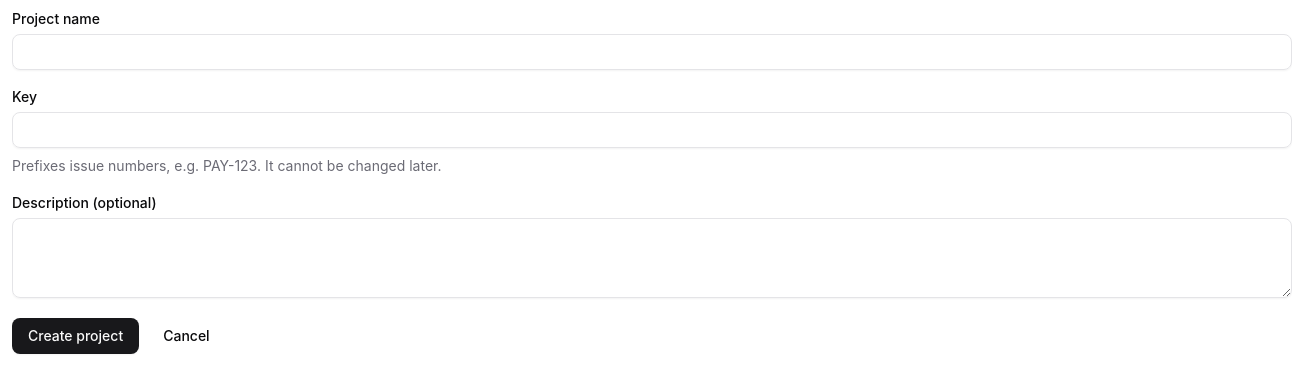
it: CreateProjectForm › shows a taken key under the key field
Type "Payments" into the field labelled "Project name" at [652, 52], box left=12, top=34, right=1292, bottom=70
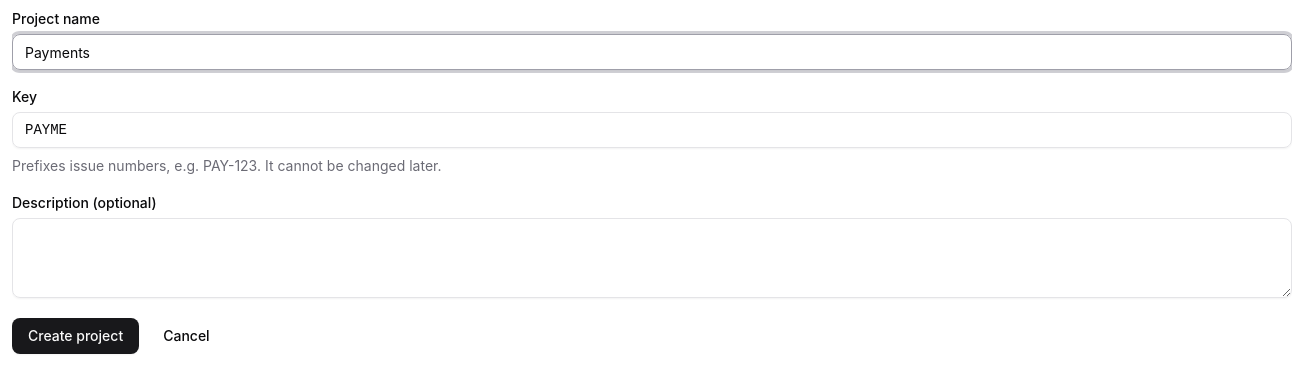
Click the button "Create project" at [76, 336], box left=12, top=318, right=139, bottom=354
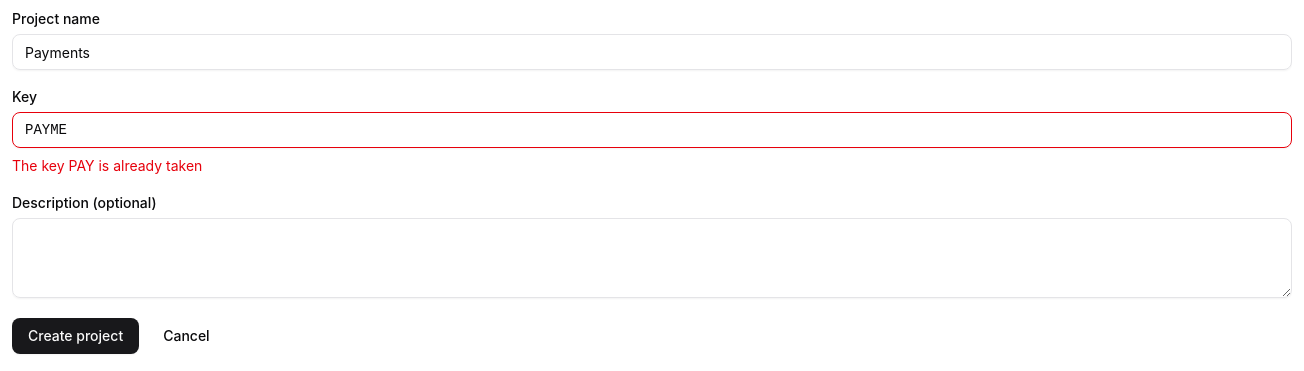
Expected: the text "The key PAY is already taken" is shown, left=12, top=157, right=202, bottom=174
